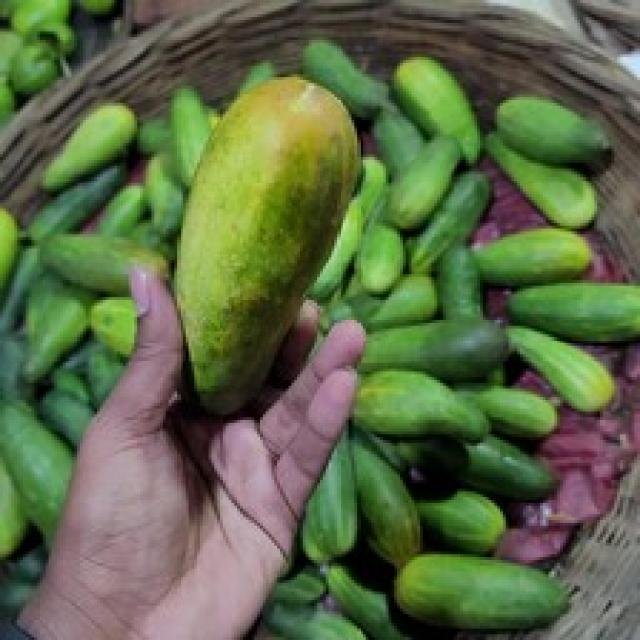Cucumber: (134, 74, 354, 465), (317, 325, 528, 463), (375, 45, 479, 260), (392, 534, 586, 628), (482, 185, 600, 301), (36, 79, 138, 211)
